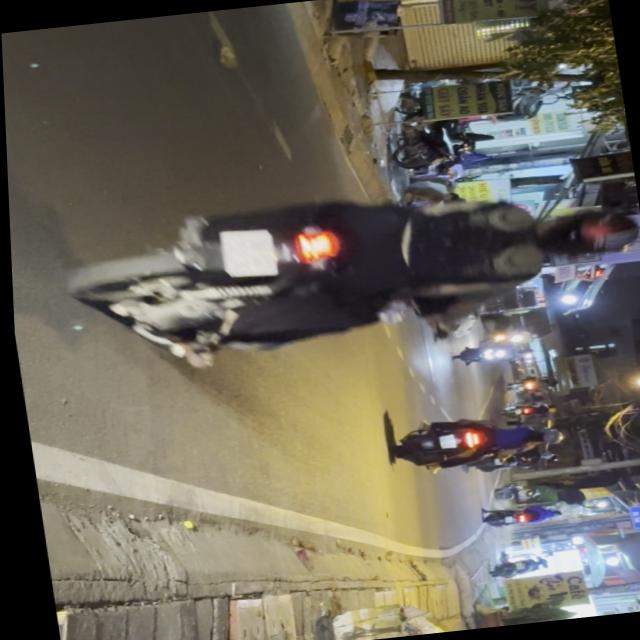helmet: (530, 198, 640, 260)
licenseplate: (5, 157, 640, 380)
nohelmet: (219, 224, 277, 277)
